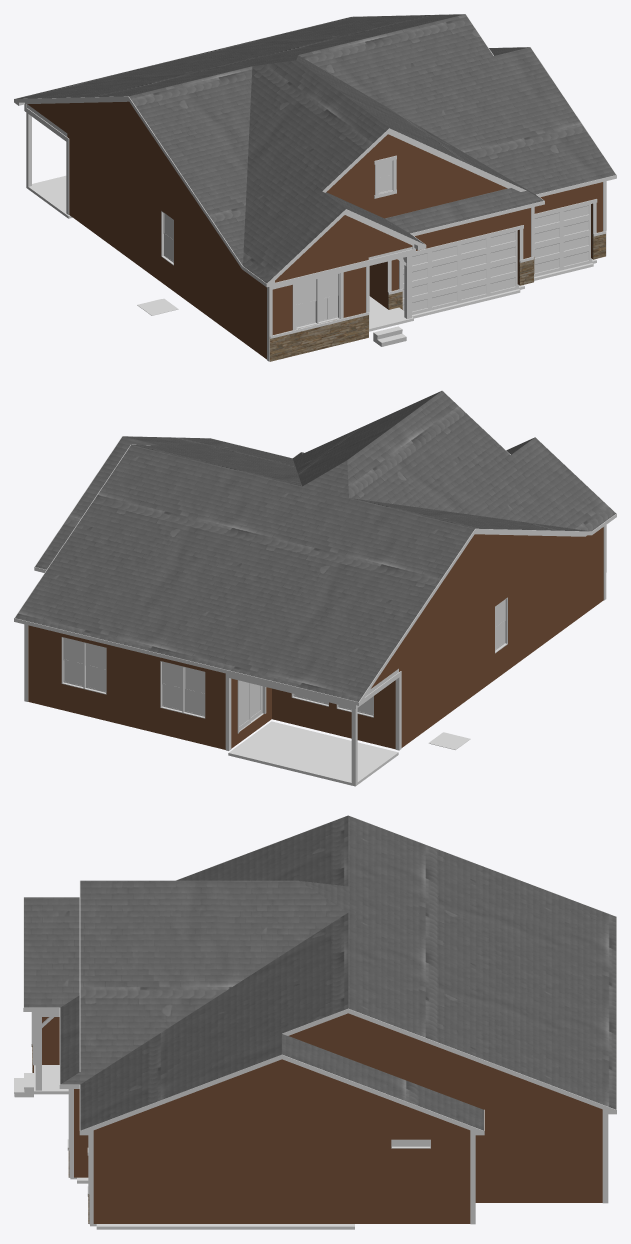
The model's file is 149-1697-dm-farmhouse.glb.
3 renders of one model, top to bottom at view 1: azimuth 30°, elevation 25°; view 2: azimuth 150°, elevation 25°; view 3: azimuth 270°, elevation 25°, orthographic. The views are drawn at different scales.
Parts seen in each view (by area): view 1: Basic Roof Wood Rafter 4" - Asphalt Shingle - Insulated_c229, Basic Roof Wood Rafter 4" - Asphalt Shingle - Insulated_f4cf, Basic Wall BSB Exterior - Stud_5.5" - Sheathing_0.5" - _7fec, Basic Wall BSB Exterior - Stud_1.5" - Sheathing_0.5" - _7793, Basic Wall BSB Exterior - Stud_1.5" - Sheathing_0.5" - _7cf2, Traditional - BSB Exterior - Overhead Garage Door - Clo_32c0, Basic Wall BSB Exterior - Stud_5.5" - Sheathing_0.5" - _f0b5, Fascia Fascia-Flat 1x6 w/12" Soffit Bd [4448799], Basic Wall BSB Exterior - Stud_1.5" - Sheathing_0.5" - _9bab, Traditional - BSB Exterior - Overhead Garage Door - Clo_90b5, Basic Roof Wood Rafter 4" - Asphalt Shingle - Insulated_20f5, Basic Wall BSB Exterior - Stud_3.5" - Sheathing_0.5" - _e5bc (+20 smaller); view 2: Basic Roof Wood Rafter 4" - Asphalt Shingle - Insulated_c229, Basic Roof Wood Rafter 4" - Asphalt Shingle - Insulated_f4cf, Basic Wall BSB Exterior - Stud_5.5" - Sheathing_0.5" - _a904, Basic Wall BSB Exterior - Stud_5.5" - Sheathing_0.5" - _7fec, Basic Wall BSB Exterior - Stud_1.5" - Sheathing_0.5" - _7793, Floor BSB Concrete Slab - 4" - Slope Option [4257786], Basic Wall BSB Exterior - Stud_5.5" - Sheathing_0.5" - _f0b5, Basic Wall BSB Exterior - Stud_5.5" - Sheathing_0.5" - _3fe1, Fascia Fascia-Flat 1x6 w/12" Soffit Bd [4448799], Trim - Corner Boards1 Trim - Corner Boards [4441713], Basic Wall BSB Exterior - Stud_5.5" - Sheathing_0.5" - _ce92, BSB Exterior - SGD XO - 1-Lite 6068 [4256805] (+9 smaller); view 3: Basic Roof Wood Rafter 4" - Asphalt Shingle - Insulated_c229, Basic Roof Wood Rafter 4" - Asphalt Shingle - Insulated_f4cf, Basic Wall BSB Exterior - Stud_3.5" - Sheathing_0.5" - _f008, Basic Wall BSB Exterior - Stud_1.5" - Sheathing_0.5" - _16ec, Basic Wall BSB Exterior - Stud_5.5" - Sheathing_0.5" - _1d05, Basic Wall BSB Exterior - Stud_5.5" - Sheathing_0.5" - _181a, Basic Wall BSB Exterior - Stud_1.5" - Sheathing_0.5" - _8663, Basic Wall BSB Exterior - Stud_3.5" - Sheathing_0.5" - _ebcb, Fascia Fascia-Flat 1x6 w/12" Soffit Bd [4448799], Trim - Corner Boards1 Trim - Corner Boards [4441713], Basic Roof Wood Rafter 4" - Asphalt Shingle - Insulated_20f5, Floor BSB Concrete Slab - 4" - Slope Option [4299503] (+5 smaller).
Boxes of the visible parts, bbox=[...] form: Basic Roof Wood Rafter 4" - Asphalt Shingle - Insulated_c229: bbox=[16, 14, 615, 265]; Basic Roof Wood Rafter 4" - Asphalt Shingle - Insulated_f4cf: bbox=[243, 55, 533, 283]; Basic Wall BSB Exterior - Stud_5.5" - Sheathing_0.5" - _7fec: bbox=[145, 191, 256, 351]; Basic Wall BSB Exterior - Stud_1.5" - Sheathing_0.5" - _7793: bbox=[27, 101, 230, 252]; Basic Wall BSB Exterior - Stud_1.5" - Sheathing_0.5" - _7cf2: bbox=[326, 134, 507, 218]; Traditional - BSB Exterior - Overhead Garage Door - Clo_32c0: bbox=[402, 230, 518, 314]; Basic Wall BSB Exterior - Stud_5.5" - Sheathing_0.5" - _f0b5: bbox=[67, 134, 129, 258]; Fascia Fascia-Flat 1x6 w/12" Soffit Bd [4448799]: bbox=[14, 14, 616, 286]; Basic Wall BSB Exterior - Stud_1.5" - Sheathing_0.5" - _9bab: bbox=[275, 215, 412, 282]; Traditional - BSB Exterior - Overhead Garage Door - Clo_90b5: bbox=[534, 204, 592, 276]; Basic Roof Wood Rafter 4" - Asphalt Shingle - Insulated_20f5: bbox=[385, 188, 543, 233]; Basic Wall BSB Exterior - Stud_3.5" - Sheathing_0.5" - _e5bc: bbox=[386, 208, 530, 308]; Basic Roof Wood Rafter 4" - Asphalt Shingle - Insulated_c229: bbox=[15, 436, 589, 701]; Basic Roof Wood Rafter 4" - Asphalt Shingle - Insulated_f4cf: bbox=[293, 391, 615, 531]; Basic Wall BSB Exterior - Stud_5.5" - Sheathing_0.5" - _a904: bbox=[28, 625, 225, 749]; Basic Wall BSB Exterior - Stud_5.5" - Sheathing_0.5" - _7fec: bbox=[478, 535, 592, 690]; Basic Wall BSB Exterior - Stud_1.5" - Sheathing_0.5" - _7793: bbox=[371, 534, 578, 688]; Floor BSB Concrete Slab - 4" - Slope Option [4257786]: bbox=[228, 721, 398, 786]; Basic Wall BSB Exterior - Stud_5.5" - Sheathing_0.5" - _f0b5: bbox=[394, 622, 462, 747]; Basic Wall BSB Exterior - Stud_5.5" - Sheathing_0.5" - _3fe1: bbox=[272, 681, 395, 749]; Fascia Fascia-Flat 1x6 w/12" Soffit Bd [4448799]: bbox=[14, 390, 616, 705]; Trim - Corner Boards1 Trim - Corner Boards [4441713]: bbox=[24, 525, 606, 750]; Basic Wall BSB Exterior - Stud_5.5" - Sheathing_0.5" - _ce92: bbox=[462, 610, 479, 703]; BSB Exterior - SGD XO - 1-Lite 6068 [4256805]: bbox=[237, 680, 266, 733]; Basic Roof Wood Rafter 4" - Asphalt Shingle - Insulated_c229: bbox=[80, 815, 616, 1130]; Basic Roof Wood Rafter 4" - Asphalt Shingle - Insulated_f4cf: bbox=[24, 880, 347, 1084]; Basic Wall BSB Exterior - Stud_3.5" - Sheathing_0.5" - _f008: bbox=[189, 1130, 357, 1223]; Basic Wall BSB Exterior - Stud_1.5" - Sheathing_0.5" - _16ec: bbox=[95, 1059, 468, 1129]; Basic Wall BSB Exterior - Stud_5.5" - Sheathing_0.5" - _1d05: bbox=[475, 1109, 602, 1202]; Basic Wall BSB Exterior - Stud_5.5" - Sheathing_0.5" - _181a: bbox=[357, 1130, 470, 1223]; Basic Wall BSB Exterior - Stud_1.5" - Sheathing_0.5" - _8663: bbox=[289, 1013, 600, 1108]; Basic Wall BSB Exterior - Stud_3.5" - Sheathing_0.5" - _ebcb: bbox=[93, 1130, 189, 1223]; Fascia Fascia-Flat 1x6 w/12" Soffit Bd [4448799]: bbox=[23, 815, 616, 1131]; Trim - Corner Boards1 Trim - Corner Boards [4441713]: bbox=[32, 1017, 608, 1224]; Basic Roof Wood Rafter 4" - Asphalt Shingle - Insulated_20f5: bbox=[60, 995, 80, 1084]; Floor BSB Concrete Slab - 4" - Slope Option [4299503]: bbox=[70, 1177, 354, 1229].
Bounding box in the file's own units: 15.58 × 9.24 × 18.51.
3 materials, 2 textured.
